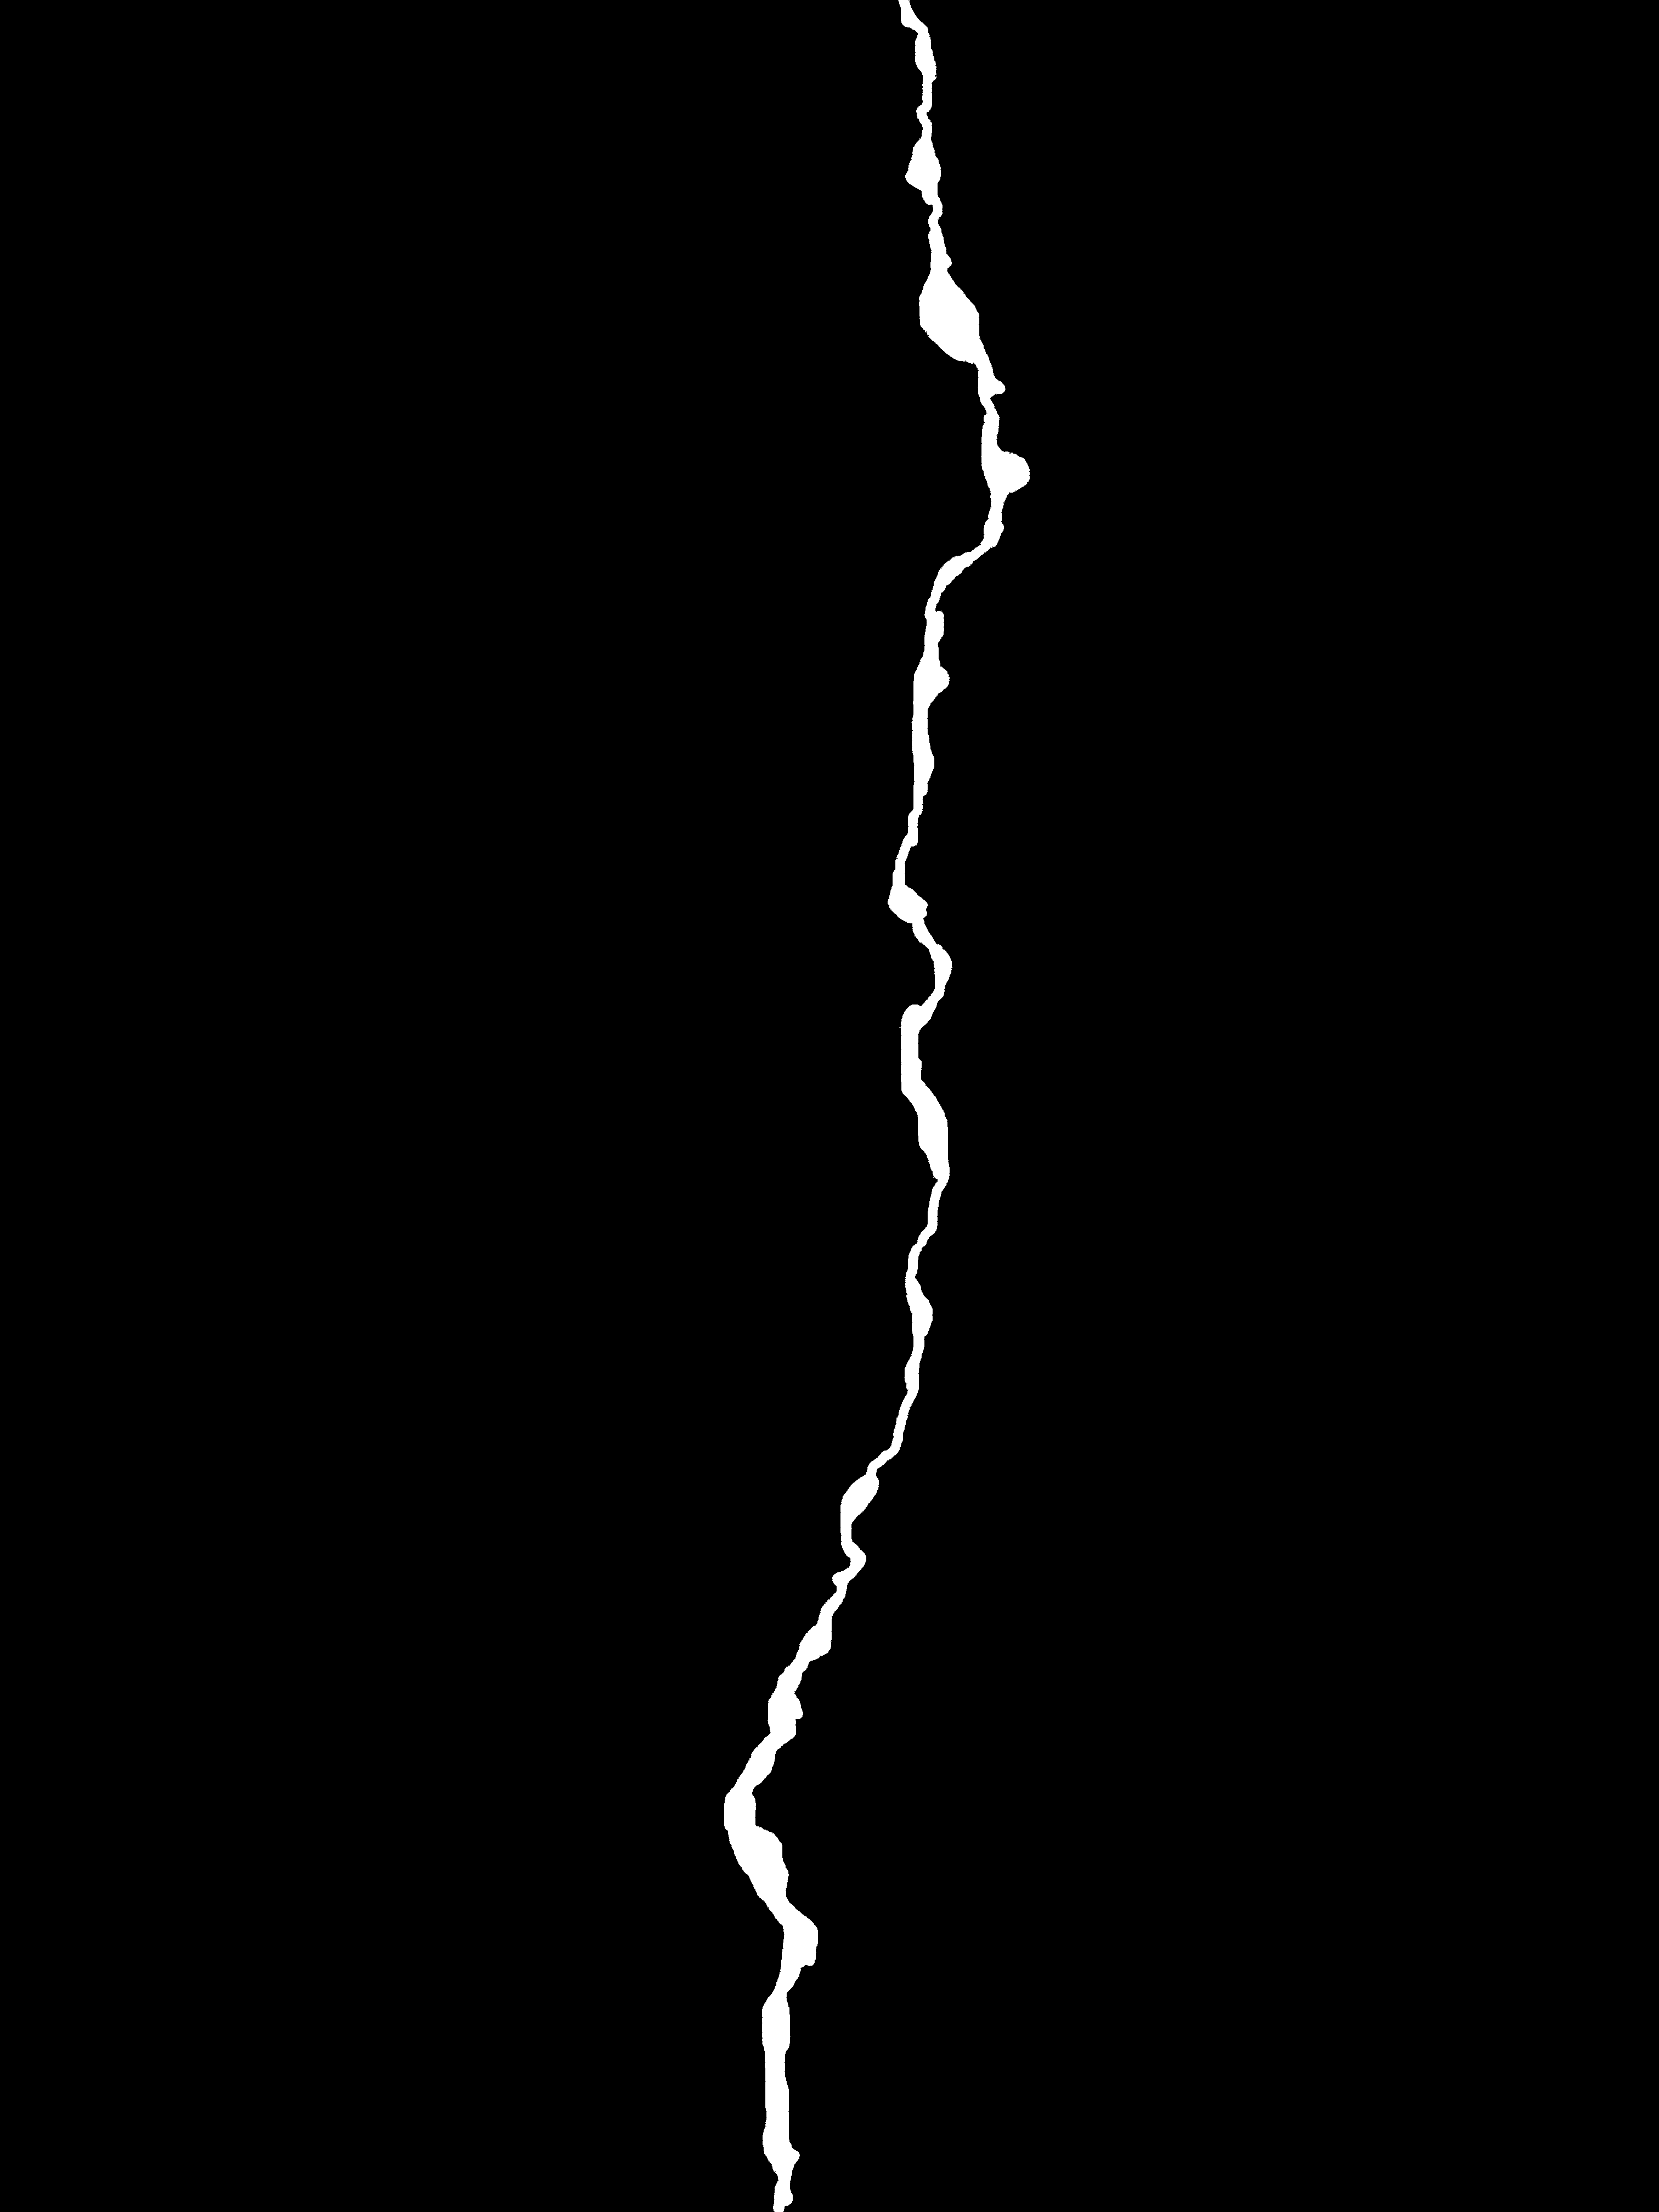Crack: (708, 0, 1061, 2212)
